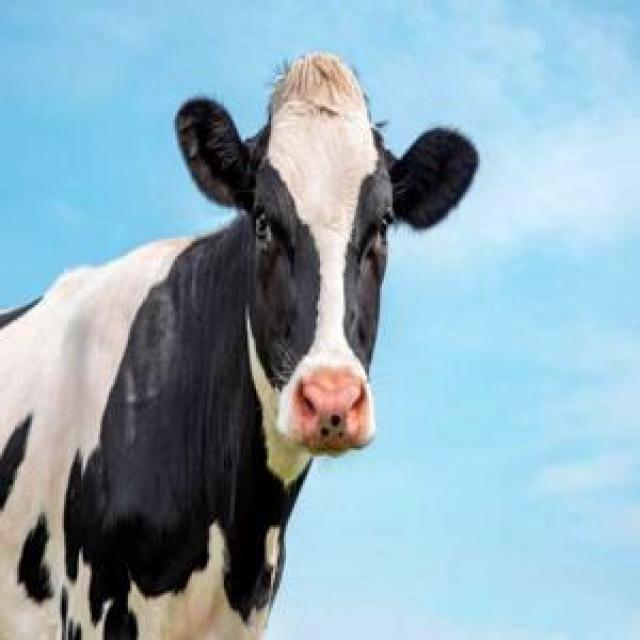cow: (0, 54, 478, 639)
